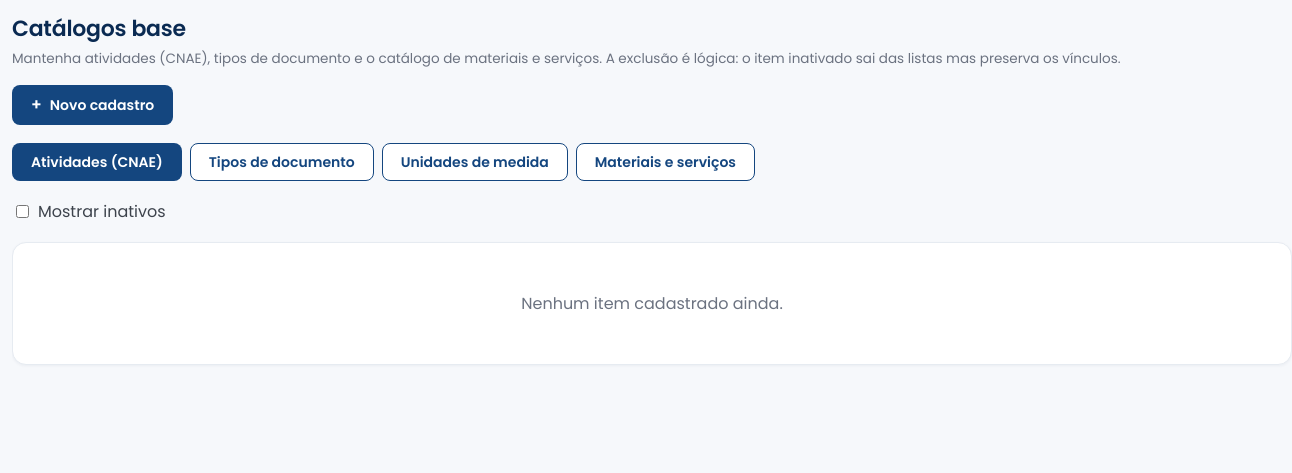
Test: ManterCatalogos — aba Materiais e Serviços › lista os itens com número, natureza e unidades — o número não é campo do formulário
Click the tab with test id "tab-materiais-servicos". click: [665, 162]
box: [576,143,755,181]
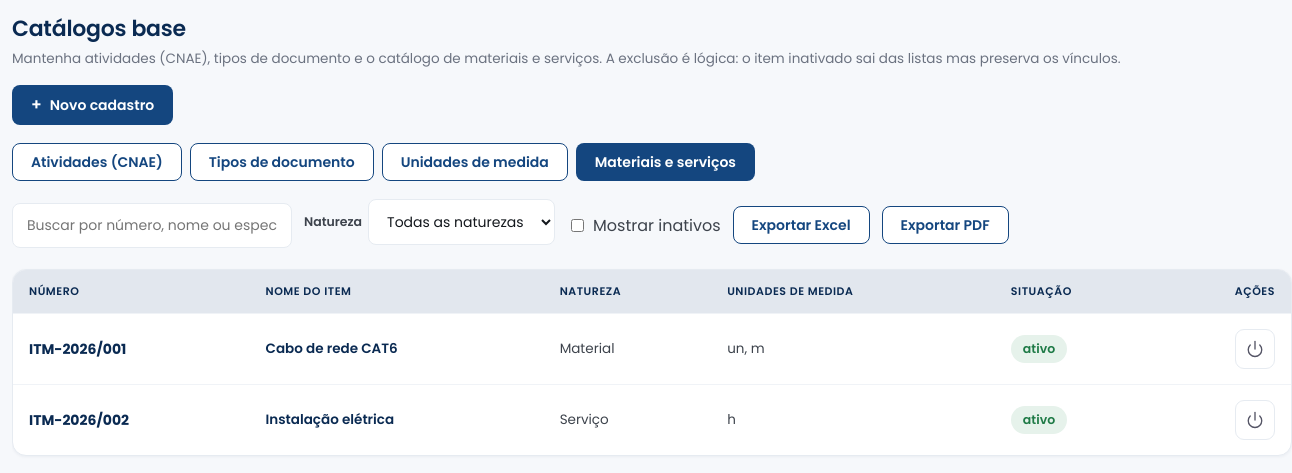
Expected: the text "ITM-2026/001" is shown, [13,314,250,384]
Expected: the text "Cabo de rede CAT6" is shown, [250,314,544,384]
Expected: the cell with test id "unidades-item" reads "un, m", [727,339,765,358]
